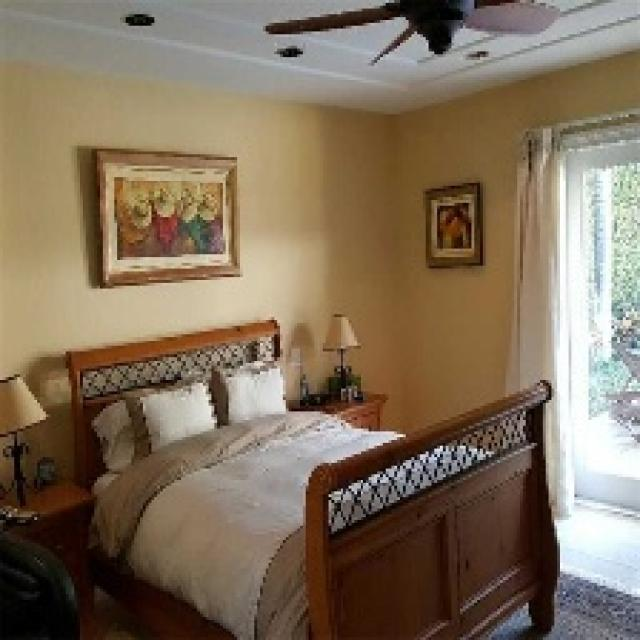Bed: (63, 314, 560, 637)
